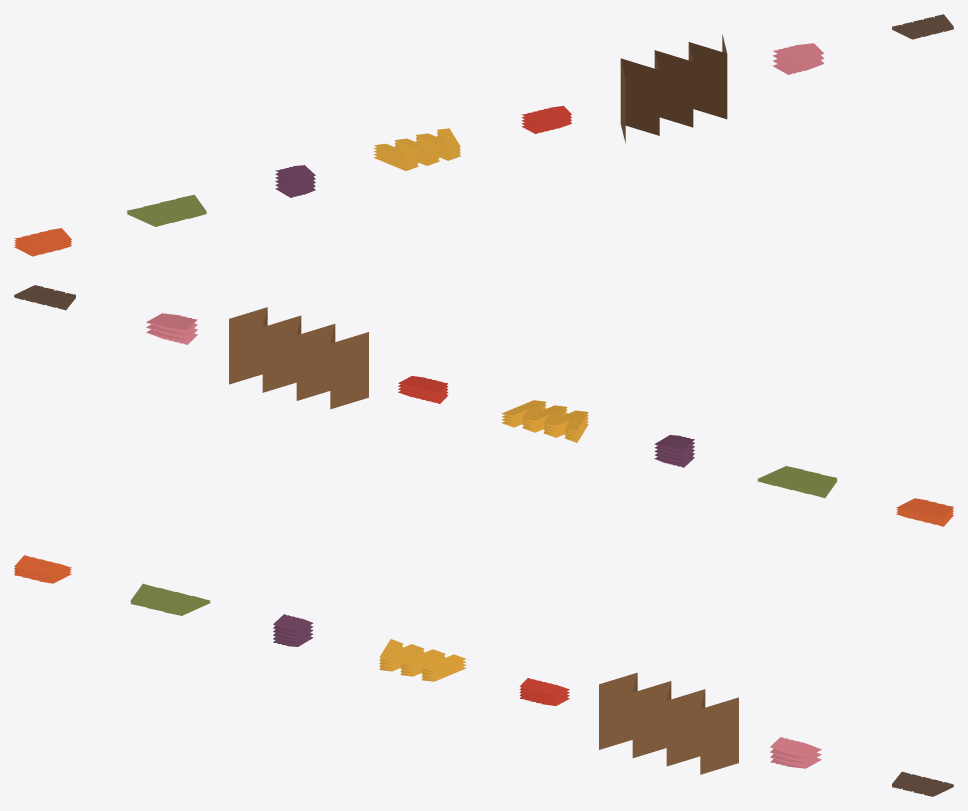
Rendered from sheets.glb.
The picture shows the model from 3 angles, top to bottom: view 1: azimuth 30°, elevation 25°; view 2: azimuth 150°, elevation 25°; view 3: azimuth 330°, elevation 25°; orthographic projection.
Parts seen in each view (by area): view 1: aws-rebuild, voice-memory, carbon-ledger, listening-agents, hero, night-builds, vision-inventory, agent-os; view 2: aws-rebuild, voice-memory, carbon-ledger, listening-agents, hero, night-builds, vision-inventory, agent-os; view 3: aws-rebuild, voice-memory, carbon-ledger, listening-agents, hero, night-builds, vision-inventory, agent-os.
Boxes of the visible parts, bbox=[...] form: aws-rebuild: bbox=[620, 34, 727, 143]; voice-memory: bbox=[373, 128, 460, 170]; carbon-ledger: bbox=[127, 194, 206, 226]; listening-agents: bbox=[772, 43, 824, 74]; hero: bbox=[14, 228, 71, 256]; night-builds: bbox=[275, 165, 315, 197]; vision-inventory: bbox=[521, 105, 571, 133]; agent-os: bbox=[892, 14, 953, 39]; aws-rebuild: bbox=[229, 307, 368, 409]; voice-memory: bbox=[501, 400, 588, 442]; carbon-ledger: bbox=[757, 466, 837, 498]; listening-agents: bbox=[146, 313, 197, 344]; hero: bbox=[896, 498, 953, 526]; night-builds: bbox=[654, 435, 694, 467]; vision-inventory: bbox=[398, 376, 448, 403]; agent-os: bbox=[14, 285, 75, 310]; aws-rebuild: bbox=[599, 672, 738, 774]; voice-memory: bbox=[379, 639, 466, 681]; carbon-ledger: bbox=[130, 583, 210, 615]; listening-agents: bbox=[770, 737, 821, 768]; hero: bbox=[14, 555, 71, 583]; night-builds: bbox=[273, 614, 313, 646]; vision-inventory: bbox=[519, 678, 569, 705]; agent-os: bbox=[892, 771, 953, 796].
Bounding box in the file's own units: 14.79 × 1 × 0.6069.
